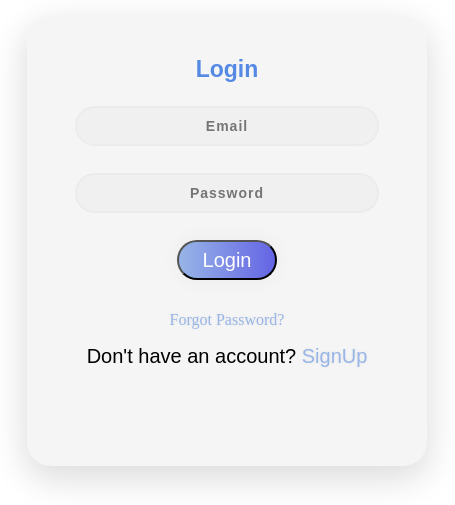
Test: Addition test › Empty initial input test
This screenshot has width=455, height=505.
Step 1. Click the button with test id "LoginBtn" → coordinates (227, 260), box [177,240,277,280]
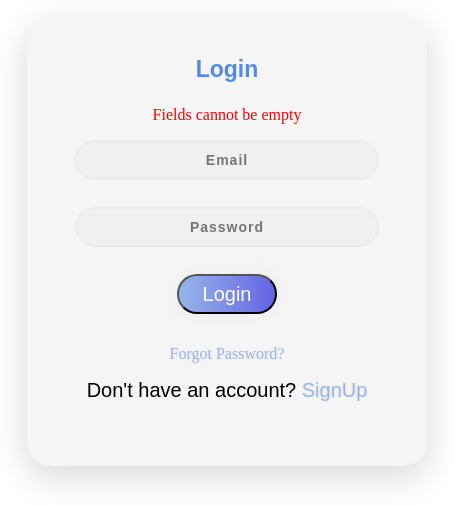
Expected: the text with test id "EmailError" reads "Fields cannot be empty", [153,106,302,123]
